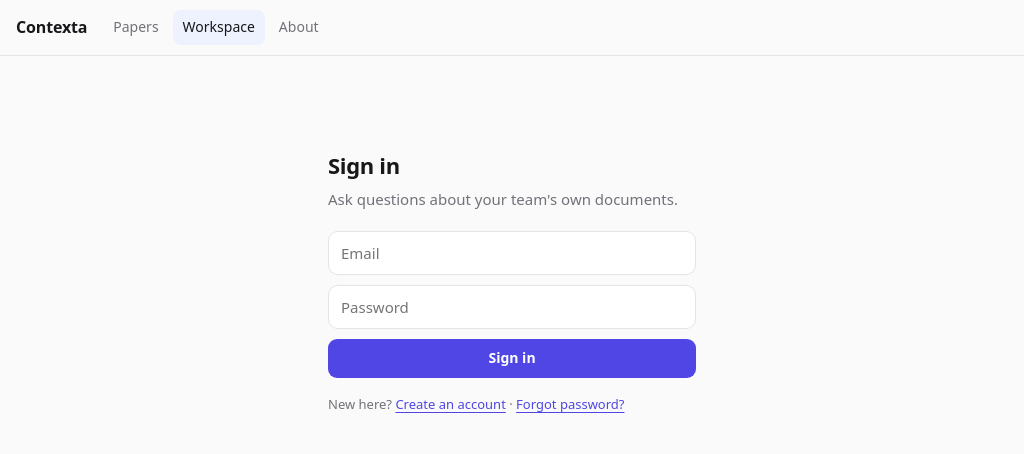
Scenario: sign-up without confirmation signs straight in
This screenshot has width=1024, height=454.
Step 1. Click the button "Create an account" → click(451, 404), box [395,394,506,414]
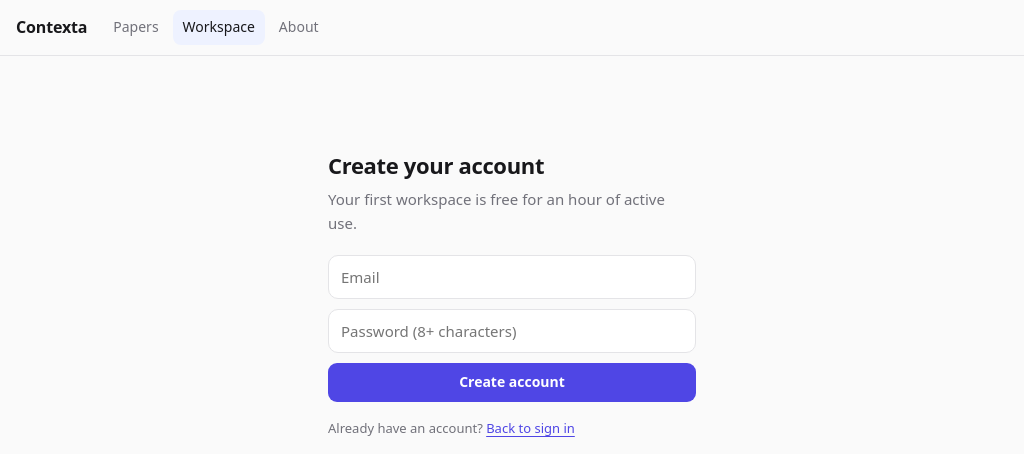
Step 2. Type "a@b.co" into the field labelled "Email" → (512, 277), box [328,255,696,299]
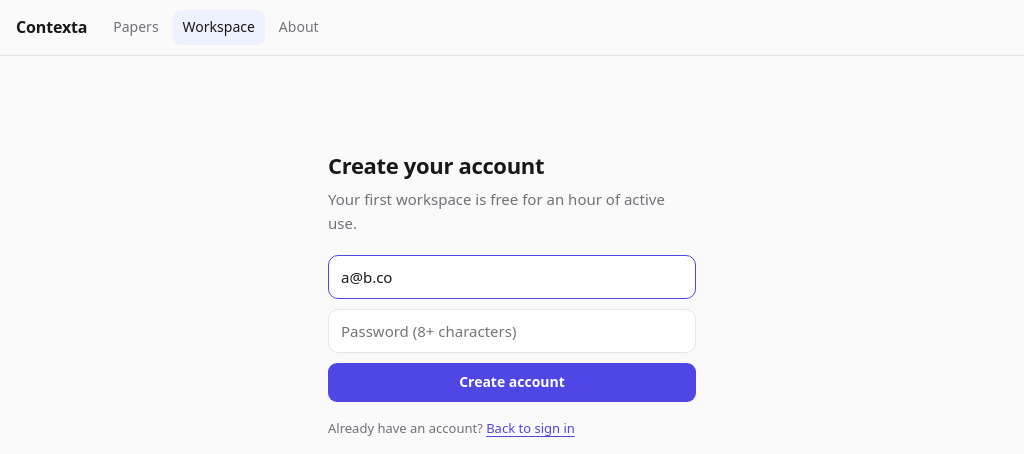
Step 3. Type "long-enough" into the password field labelled "Password" → (512, 331), box [328,309,696,353]
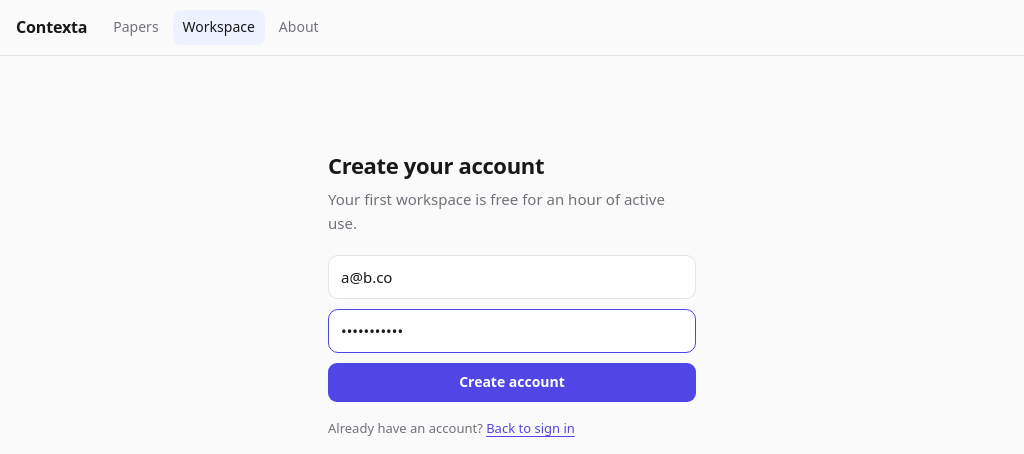
Step 4. Click the button "Create account" → click(512, 382), box [328,363,696,402]
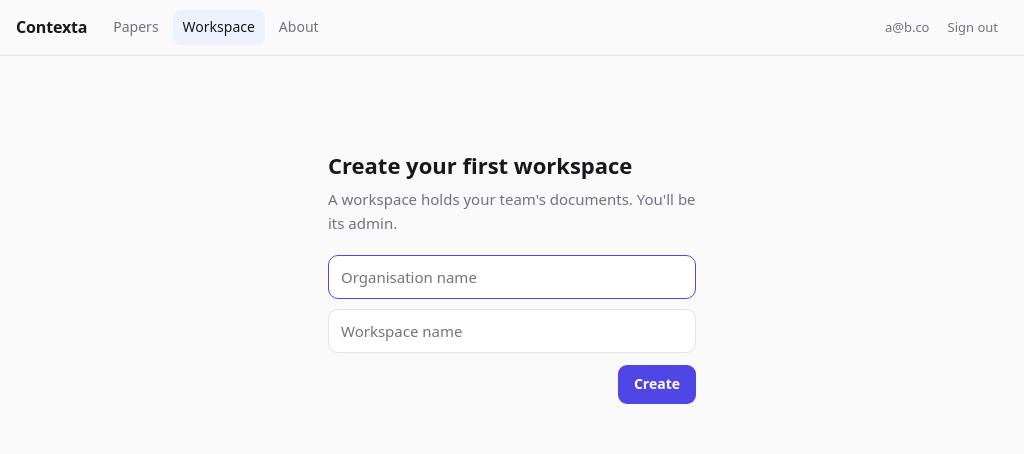
Now the heading "Create your first workspace" is shown, box [328,150,632,180]
